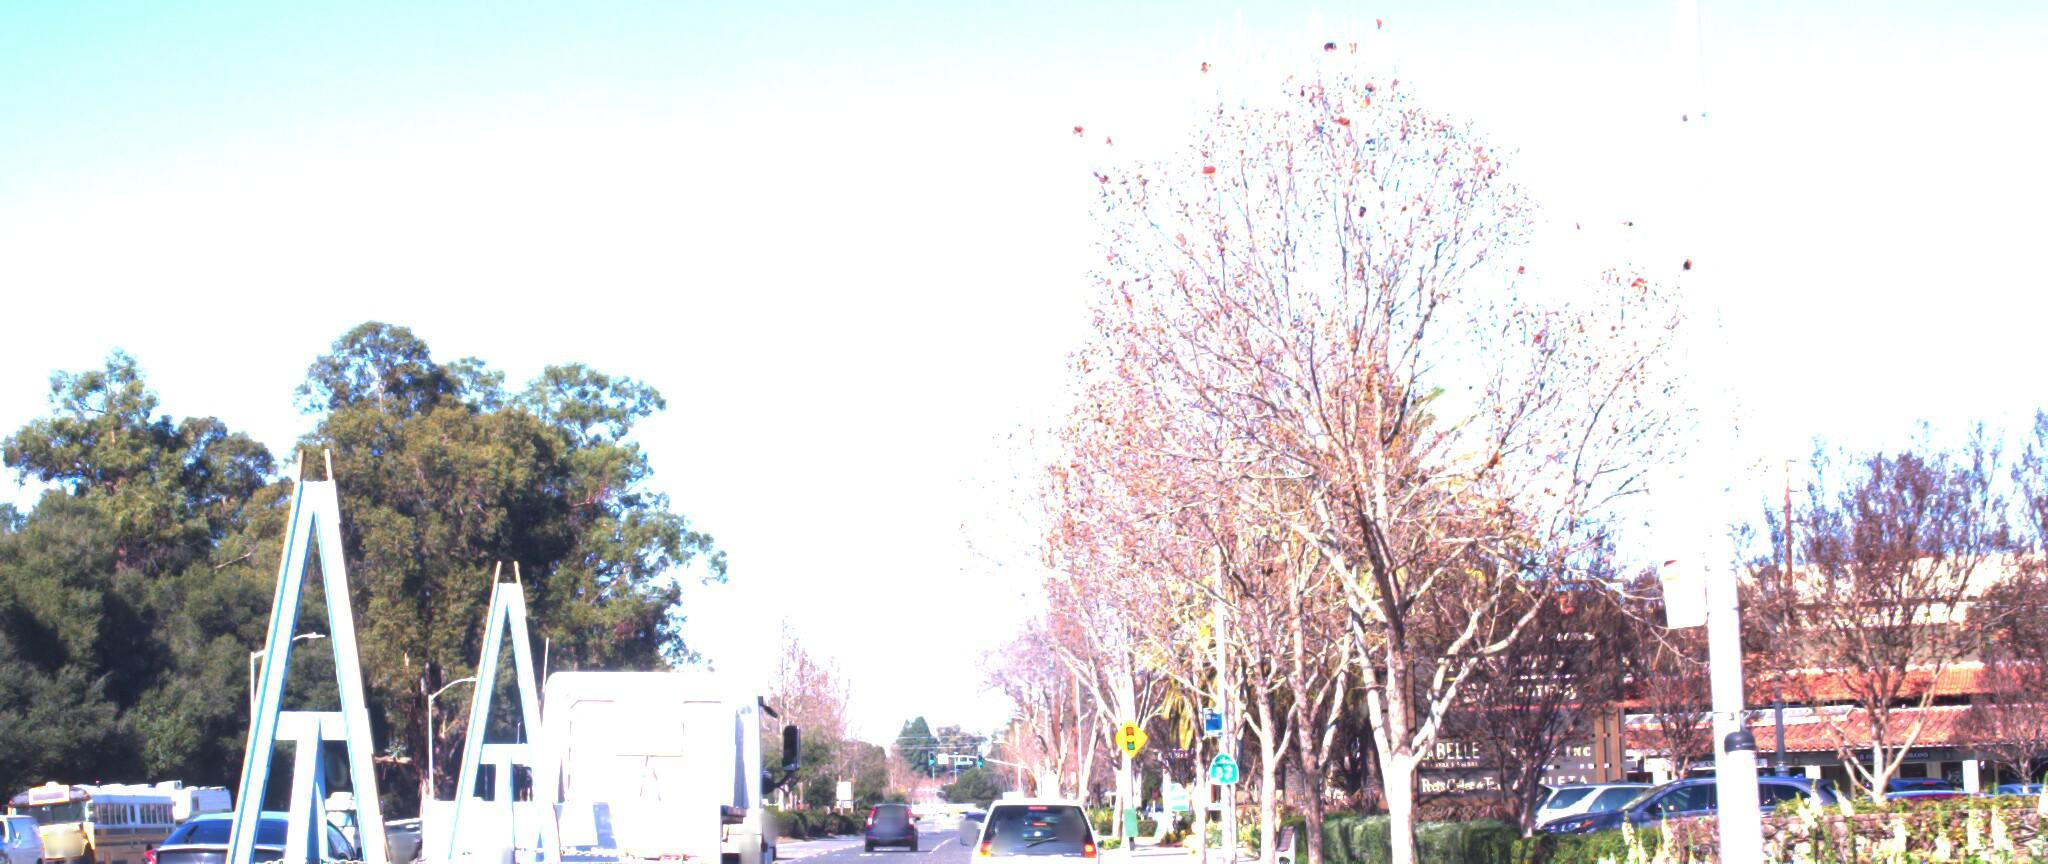car: (1526, 748, 1864, 864), (108, 786, 401, 864), (963, 775, 1108, 864), (0, 786, 67, 864), (0, 790, 20, 864)
truck: (0, 355, 835, 864)
